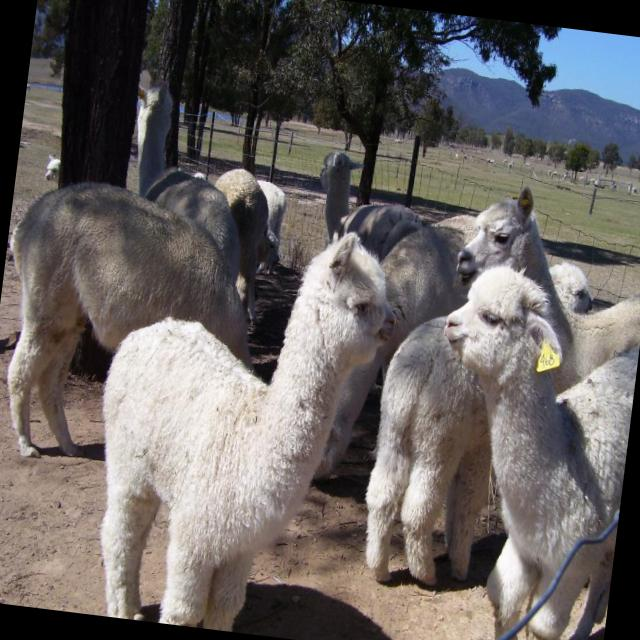alpaca: (77, 207, 405, 640), (0, 174, 301, 493), (405, 255, 640, 640), (433, 180, 640, 502), (103, 70, 291, 351), (303, 150, 444, 324)
